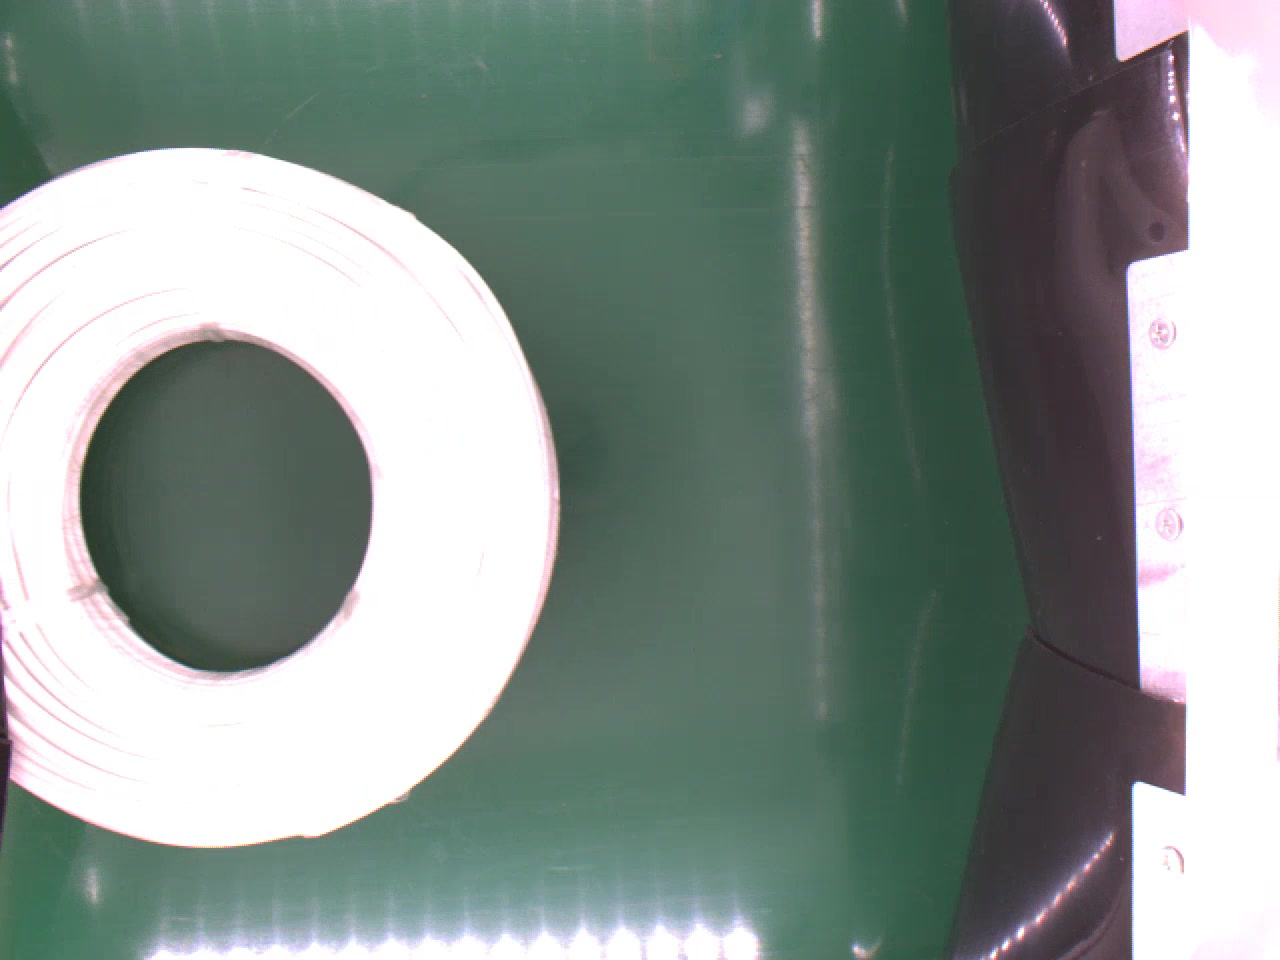white: (0, 140, 563, 851)
